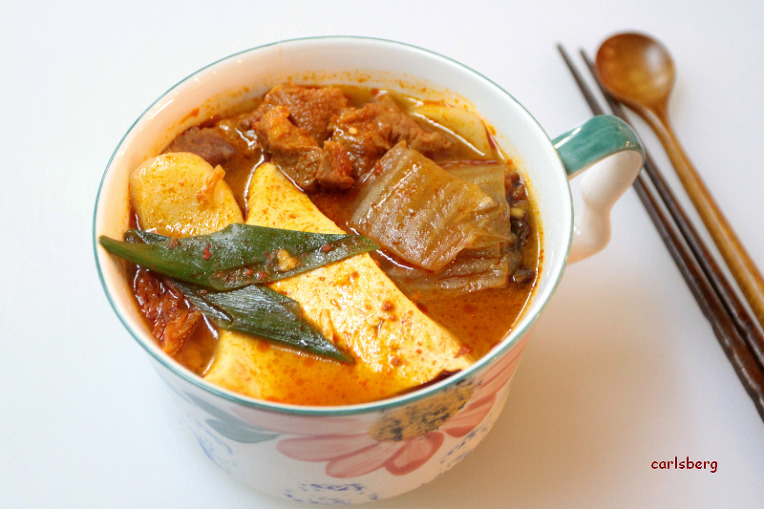gimchijjigae: (95, 67, 537, 415)
